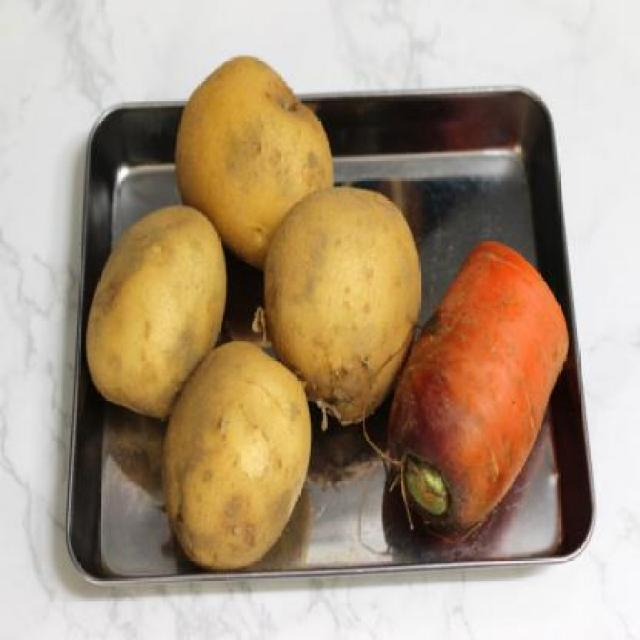carrot: (390, 236, 572, 544)
